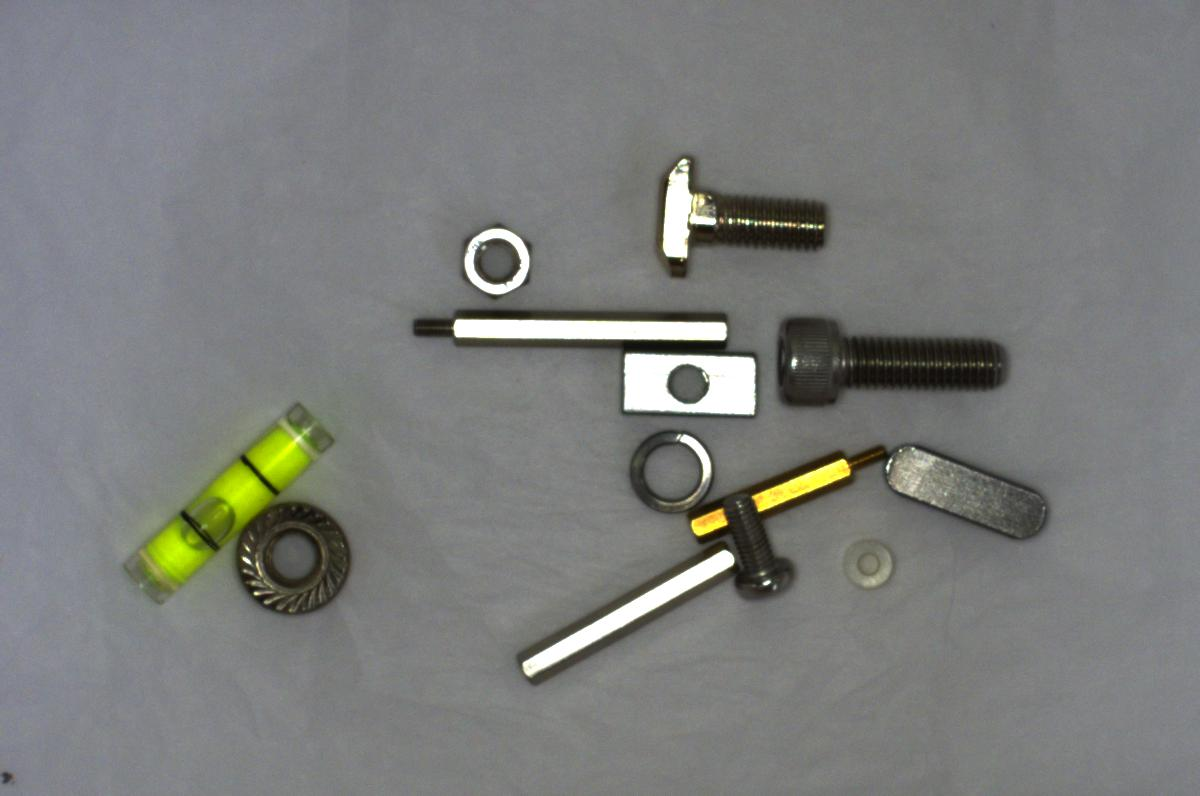Double hexagonal column: (515, 546, 738, 686)
Flange nut: (224, 496, 357, 619)
Hexagon nut: (442, 217, 542, 305)
Hexagon pillar: (674, 442, 896, 530)
Hexagon screw: (770, 306, 1023, 419)
Hexagonal steel column: (396, 294, 753, 356)
Horizontal bubble: (110, 401, 344, 613)
Keybar: (888, 435, 1055, 544)
Plastic cushion pillar: (838, 528, 898, 601)
Rectangular nut: (610, 337, 767, 421)
Round head screw: (725, 486, 803, 603)
Spring washer: (620, 419, 715, 524)
T-shaped screw: (639, 153, 844, 277)
